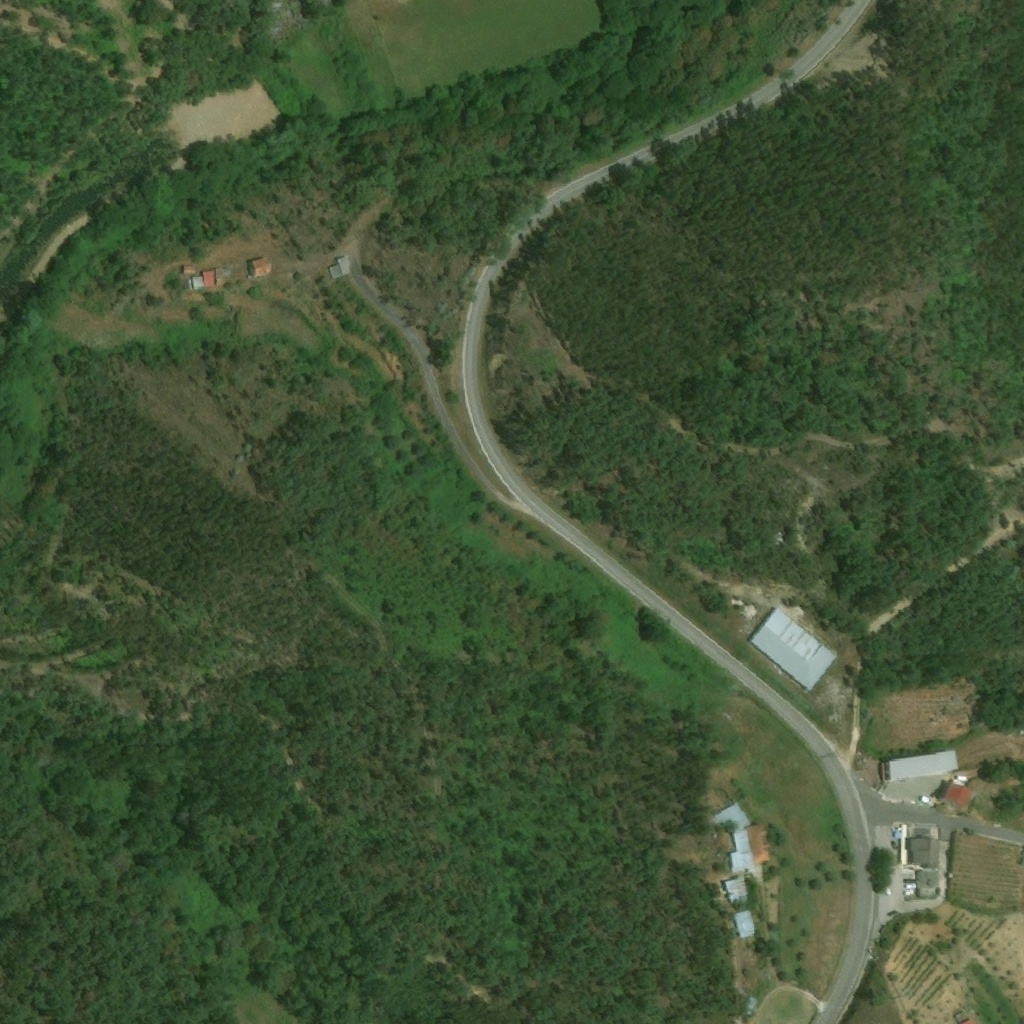0 no-damage: (746, 605, 837, 693), (883, 748, 958, 783), (726, 818, 771, 873), (905, 836, 942, 870), (936, 781, 974, 811), (710, 804, 748, 834), (189, 268, 225, 290), (721, 877, 747, 907), (731, 909, 755, 940), (913, 872, 939, 900), (247, 258, 272, 279), (919, 798, 934, 808)
